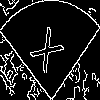X: (25, 25, 65, 83)
